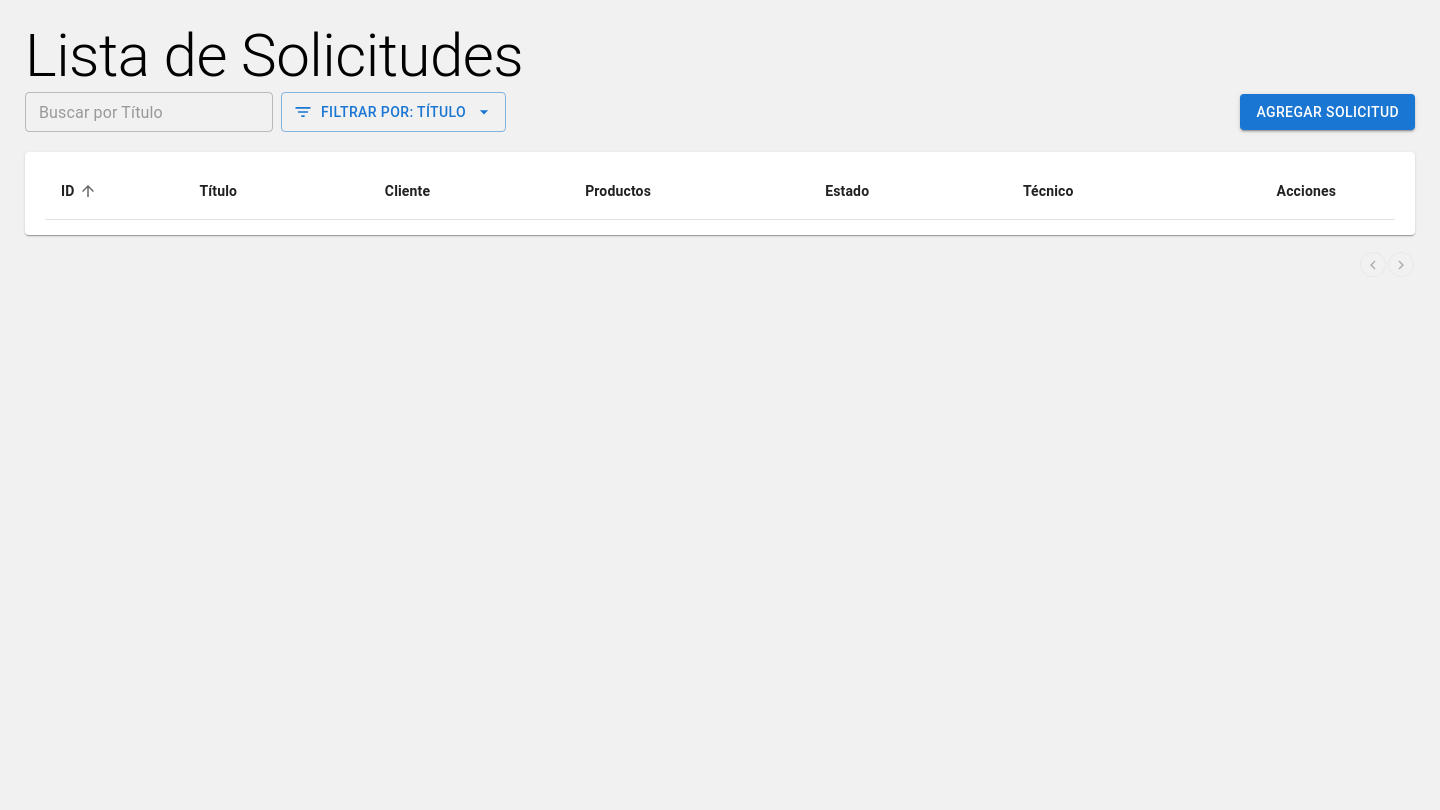
Test: RequestsTable › debe abrir el modal para agregar una solicitud
Click the button "Agregar Solicitud". click: [1328, 112]
box: [1240,94,1415,130]
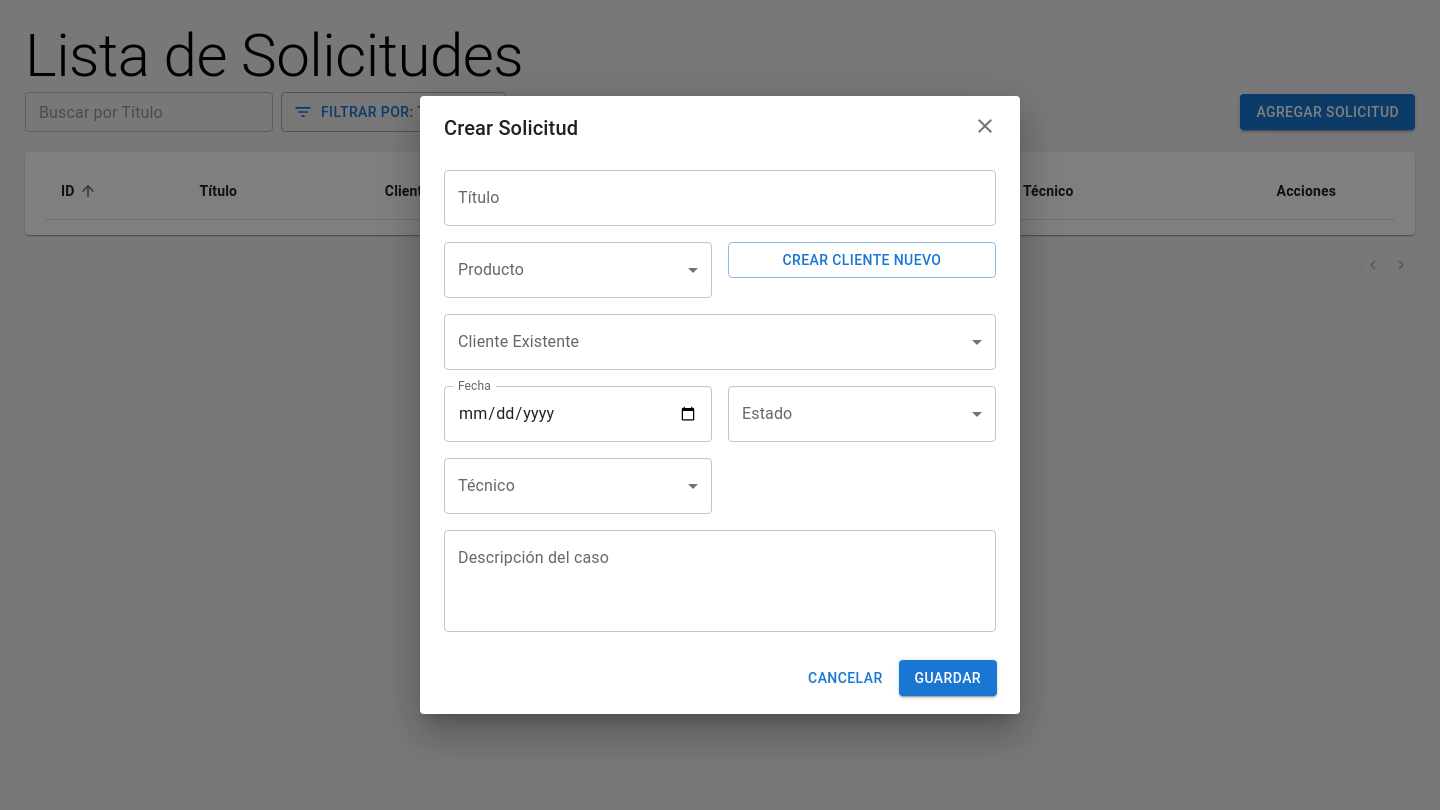
Result: the dialog is shown at [420,96,1020,714]
